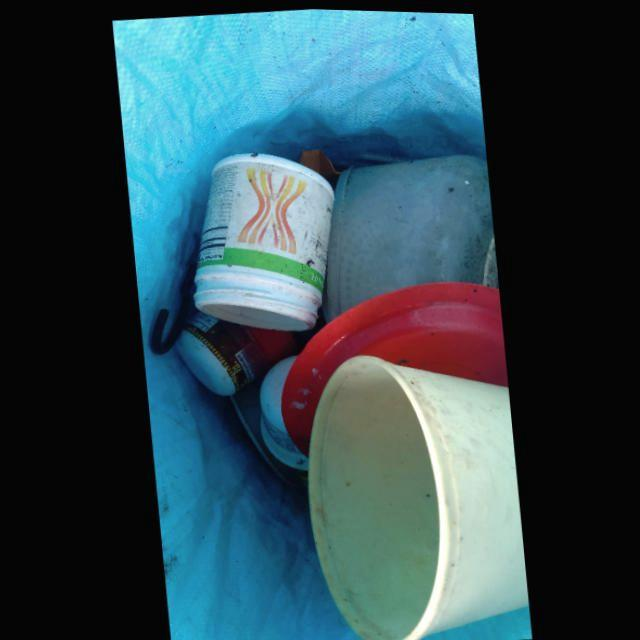plastic_container: (307, 351, 529, 640), (280, 278, 508, 450), (315, 147, 499, 327), (193, 148, 335, 328), (175, 301, 286, 389), (258, 352, 309, 470)
